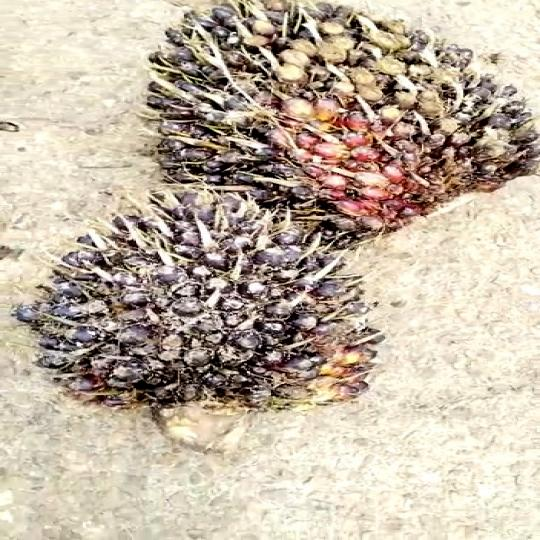mentah: (117, 12, 540, 260), (44, 175, 436, 422)
